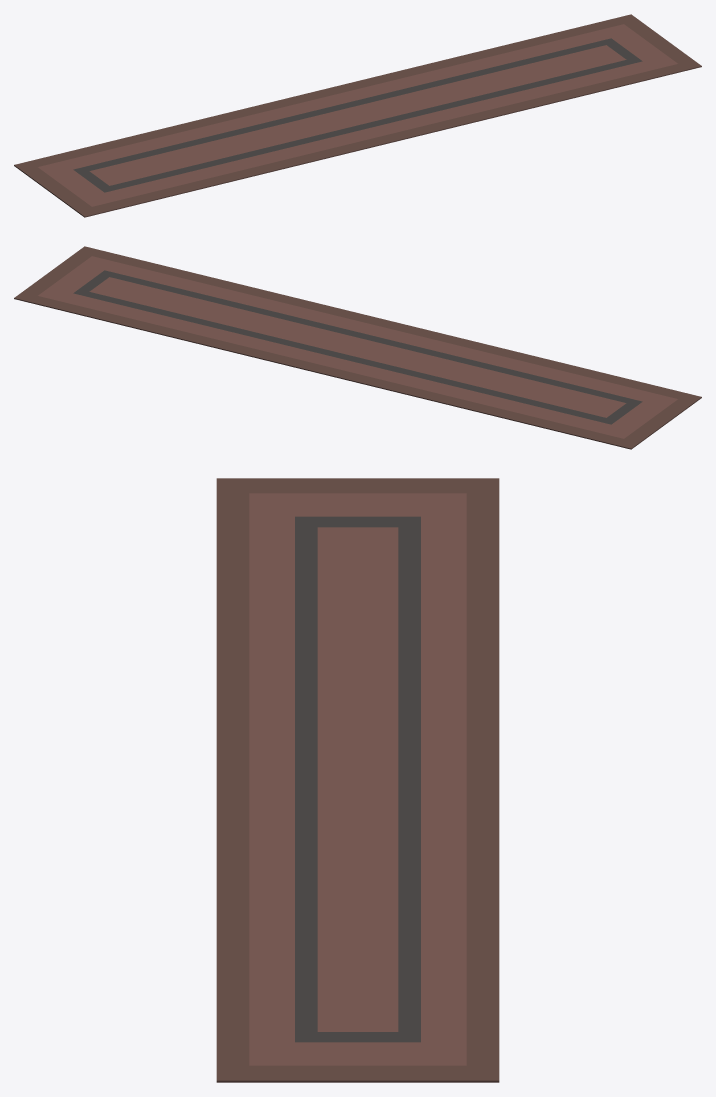
File: SD_Prop_Rug_Red_Large_01.fbx
3 views of the same model, one above another, from view 1: azimuth 30°, elevation 25°; view 2: azimuth 150°, elevation 25°; view 3: azimuth 270°, elevation 25° (orthographic). The views are drawn at different scales.
Visible parts, largest first — view 1: SD_Prop_Rug_Red_Large_01; view 2: SD_Prop_Rug_Red_Large_01; view 3: SD_Prop_Rug_Red_Large_01.
Boxes of the visible parts, x1,y1,x2,y2 form: SD_Prop_Rug_Red_Large_01: [14, 14, 701, 217]; SD_Prop_Rug_Red_Large_01: [14, 246, 701, 449]; SD_Prop_Rug_Red_Large_01: [216, 478, 499, 1082].
Bounding box in the file's own units: 13.25 × 0.0203 × 2.63.
